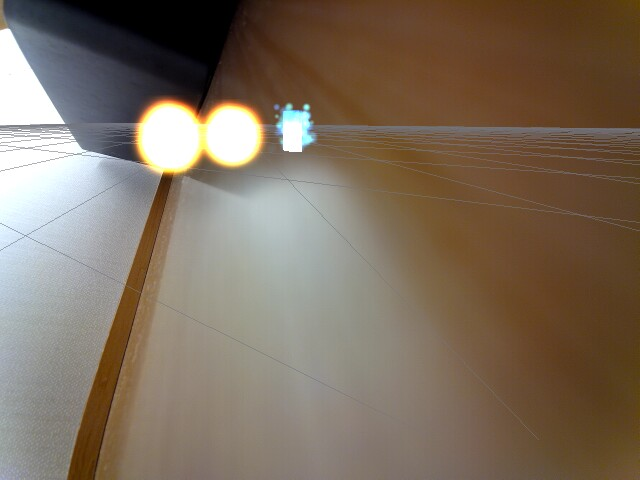firebig: (130, 88, 205, 179)
